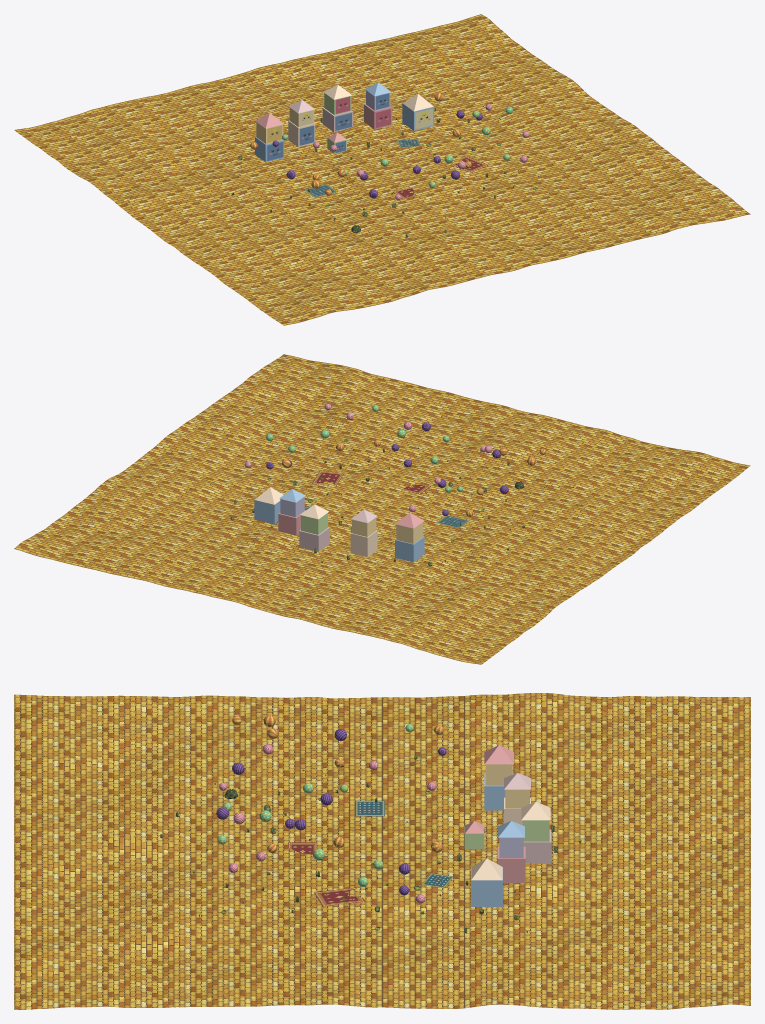
Rendered from toytown_biome.glb.
3 views of the same model, one above another, from view 1: azimuth 30°, elevation 25°; view 2: azimuth 150°, elevation 25°; view 3: azimuth 270°, elevation 25° (orthographic). The views are drawn at different scales.
Parts seen in each view (by area): view 1: Ground_Grass; view 2: Ground_Grass, TT_SunTower_L0, TT_StarTower_L0, TT_FlowerTower_L0, TT_WhaleTower_L0; view 3: Ground_Grass, TT_WhaleTower_L0, TT_HeartTower_L0, TT_FlowerTower_L0, TT_Rug_Right, TT_WhaleTower_R1, TT_FlowerTower_L1, TT_StarTower_L0, TT_StarTower_L1.
Boxes of the visible parts, left/top/right/bottom form: Ground_Grass: left=14, top=14, right=750, bottom=325; Ground_Grass: left=14, top=354, right=750, bottom=664; TT_SunTower_L0: left=350, top=530, right=377, bottom=556; TT_StarTower_L0: left=395, top=536, right=424, bottom=562; TT_FlowerTower_L0: left=299, top=527, right=329, bottom=551; TT_WhaleTower_L0: left=254, top=500, right=280, bottom=524; Ground_Grass: left=14, top=693, right=750, bottom=1009; TT_WhaleTower_L0: left=471, top=867, right=502, bottom=906; TT_HeartTower_L0: left=497, top=846, right=525, bottom=883; TT_FlowerTower_L0: left=523, top=829, right=551, bottom=864; TT_Rug_Right: left=314, top=887, right=364, bottom=906; TT_WhaleTower_R1: left=471, top=858, right=502, bottom=880; TT_FlowerTower_L1: left=522, top=820, right=549, bottom=841; TT_StarTower_L0: left=484, top=773, right=513, bottom=810; TT_StarTower_L1: left=485, top=764, right=512, bottom=785.
Bounding box in the file's own units: 60 × 6.56 × 60.
15 materials, 8 textured.
